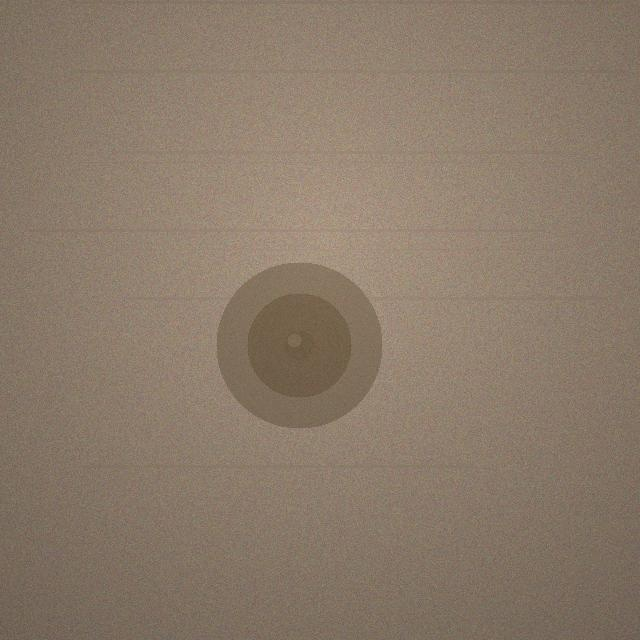good: (216, 262, 382, 428)
